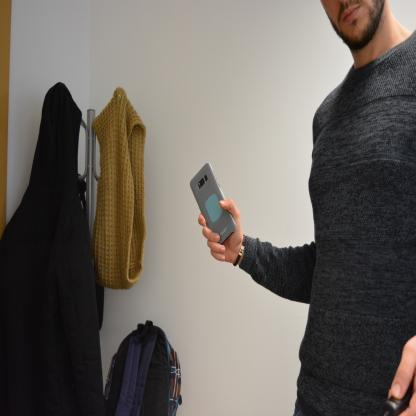smartphone: (189, 161, 237, 245)
